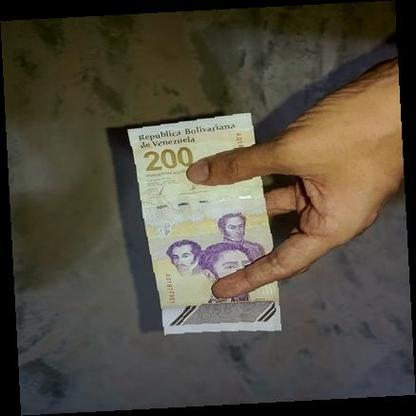vef_front: (126, 110, 282, 336)
